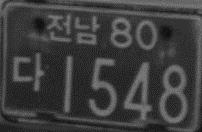0: (136, 18, 157, 50)
1: (63, 53, 73, 115)
4: (121, 61, 153, 119)
5: (87, 57, 118, 117)
8: (160, 64, 189, 123), (110, 16, 133, 48)
다: (12, 51, 46, 92)
전남_O: (46, 12, 101, 47)
